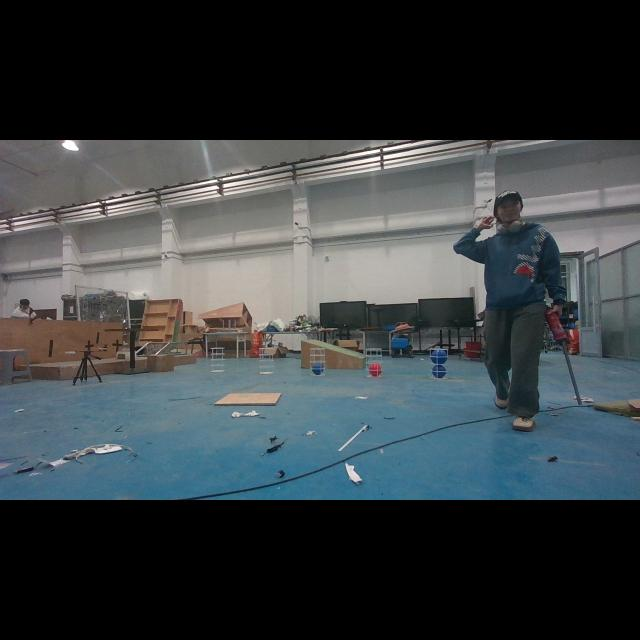B: (429, 350, 448, 364), (431, 366, 447, 378), (312, 362, 324, 374)
R: (368, 364, 382, 376)
S: (428, 346, 450, 382), (363, 346, 385, 380), (256, 345, 276, 377), (308, 347, 328, 378), (207, 346, 227, 374)
